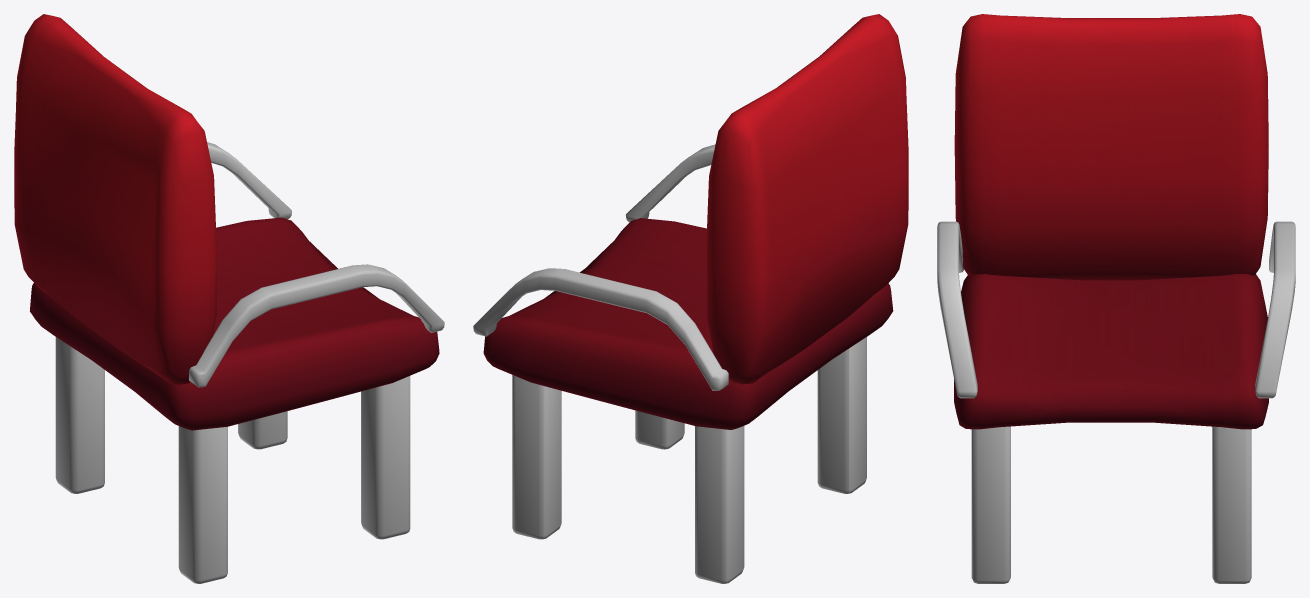
File: Props_Chair_03.fbx
3 views of the same model, side by side, from view 1: azimuth 30°, elevation 25°; view 2: azimuth 150°, elevation 25°; view 3: azimuth 270°, elevation 25° (orthographic). The views are drawn at different scales.
Visible parts, largest first — view 1: Props_Chair_03; view 2: Props_Chair_03; view 3: Props_Chair_03.
Part boxes in pixels (<box>): Props_Chair_03: <box>14,14,444,583</box>; Props_Chair_03: <box>473,14,908,583</box>; Props_Chair_03: <box>937,14,1295,583</box>.
Bounding box in the file's own units: 53.9 × 86.97 × 60.82.
